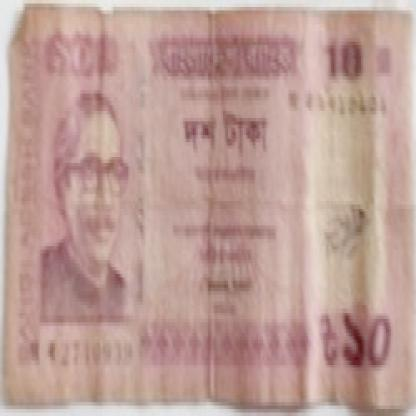Ten Taka: (340, 298, 400, 378), (45, 24, 96, 83), (321, 31, 370, 87)
